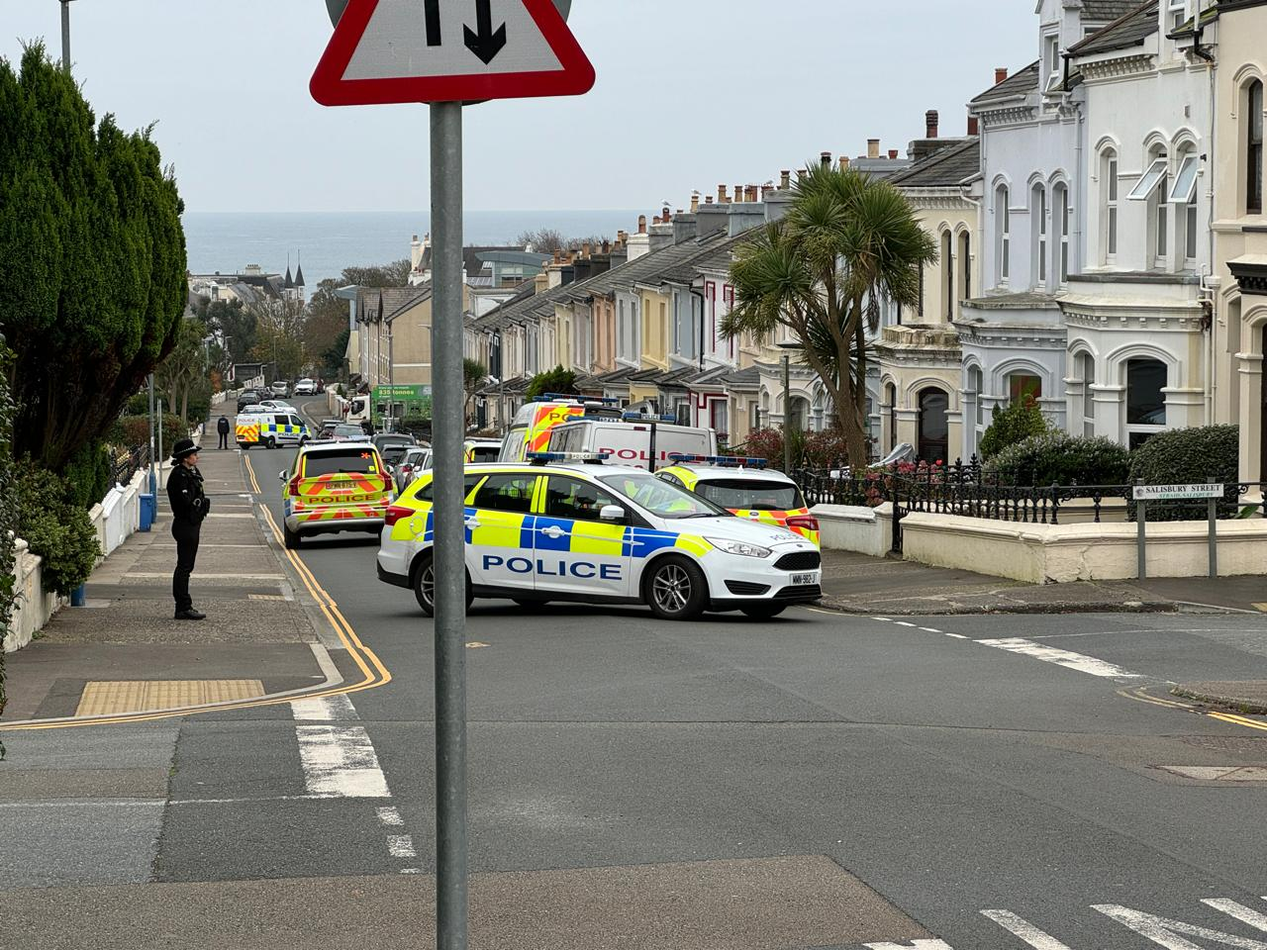Car: (263, 435, 399, 545)
Person: (359, 463, 836, 628), (161, 439, 214, 619)
Tree: (1, 33, 123, 522)
